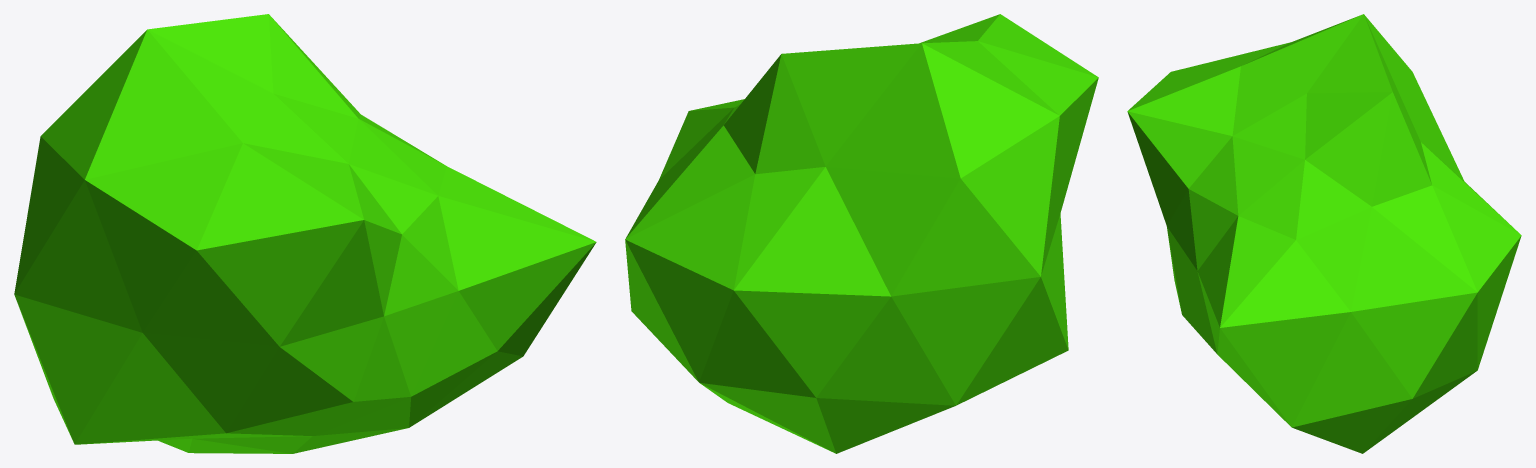
File: rock3.fbx
The picture shows the model from 3 angles, left to right: view 1: azimuth 30°, elevation 25°; view 2: azimuth 150°, elevation 25°; view 3: azimuth 270°, elevation 25°; orthographic projection. The views are drawn at different scales.
Parts seen in each view (by area): view 1: Икосфера.001; view 2: Икосфера.001; view 3: Икосфера.001.
Boxes of the visible parts, <box> form: Икосфера.001: <box>14,14,596,453</box>; Икосфера.001: <box>625,14,1098,453</box>; Икосфера.001: <box>1127,14,1521,453</box>.
Bounding box in the file's own units: 191 × 171 × 172.
